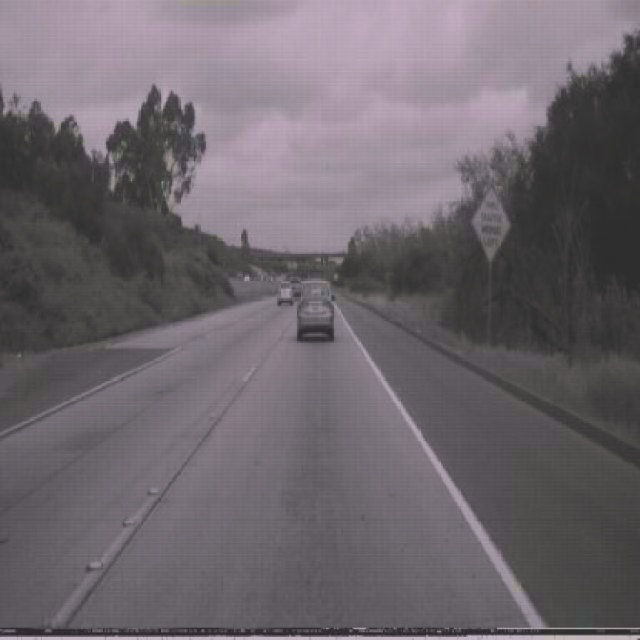thruTrafficMergeLeft: (471, 182, 512, 264)
